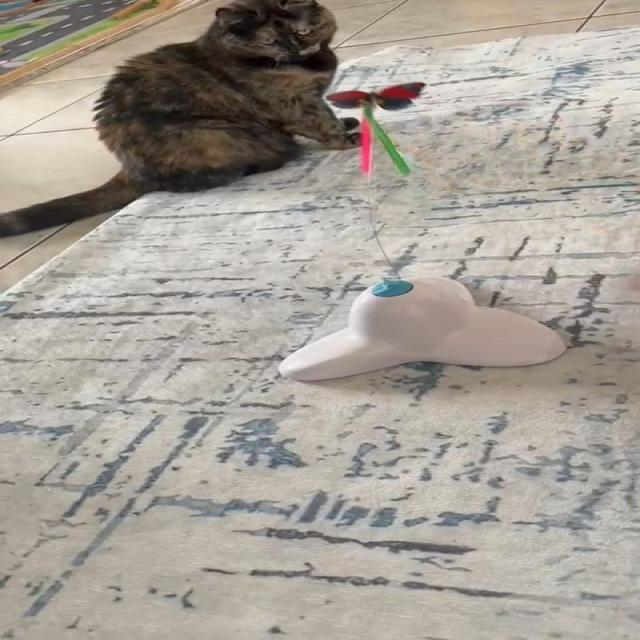authorized: (0, 0, 362, 238)
